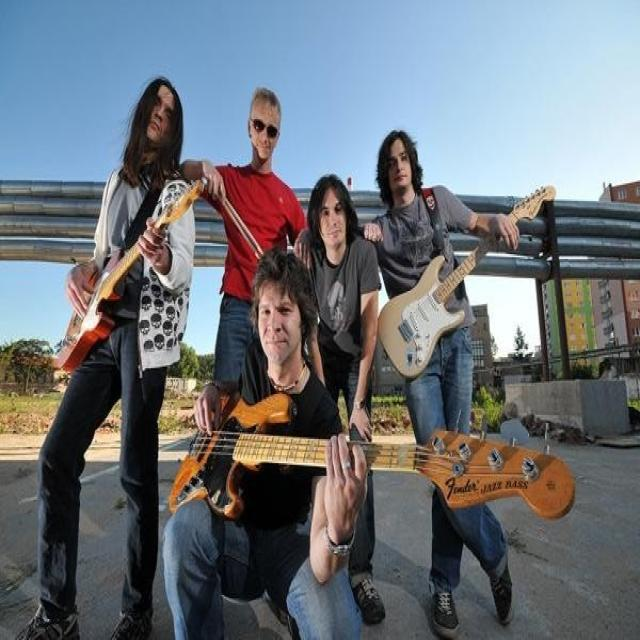guitar: (376, 182, 557, 378), (57, 177, 202, 375)
